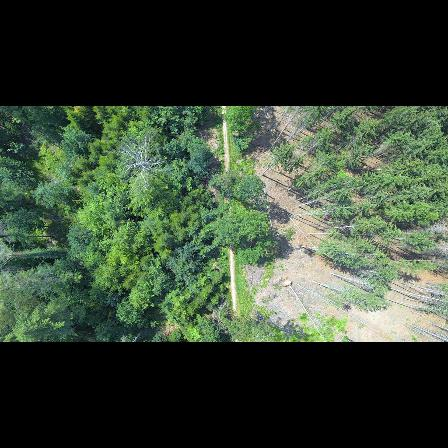Dead: (112, 131, 164, 193)
